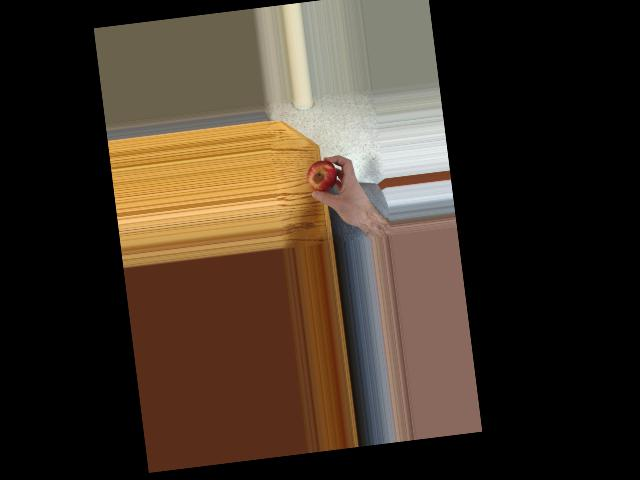apple: (303, 155, 345, 202)
